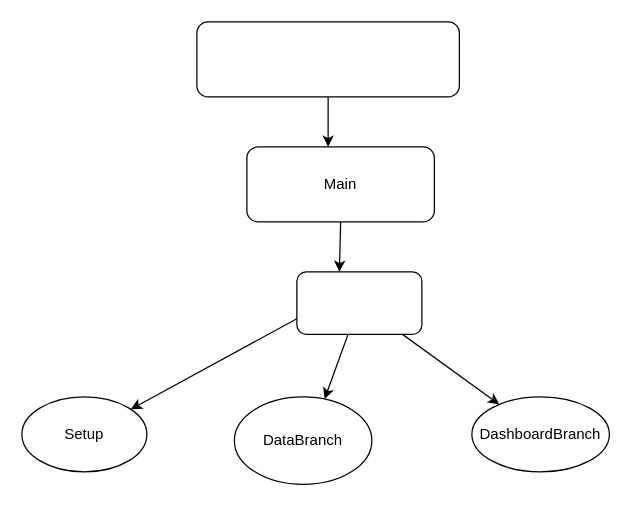
This 631x506 diagram has some shape labels left out. The shapes that lost their labels are listed below. From the top down, each one's centre as x and y in pixels, then its label:
the point at 327,59: GitHub Flow
the point at 359,302: Dev
